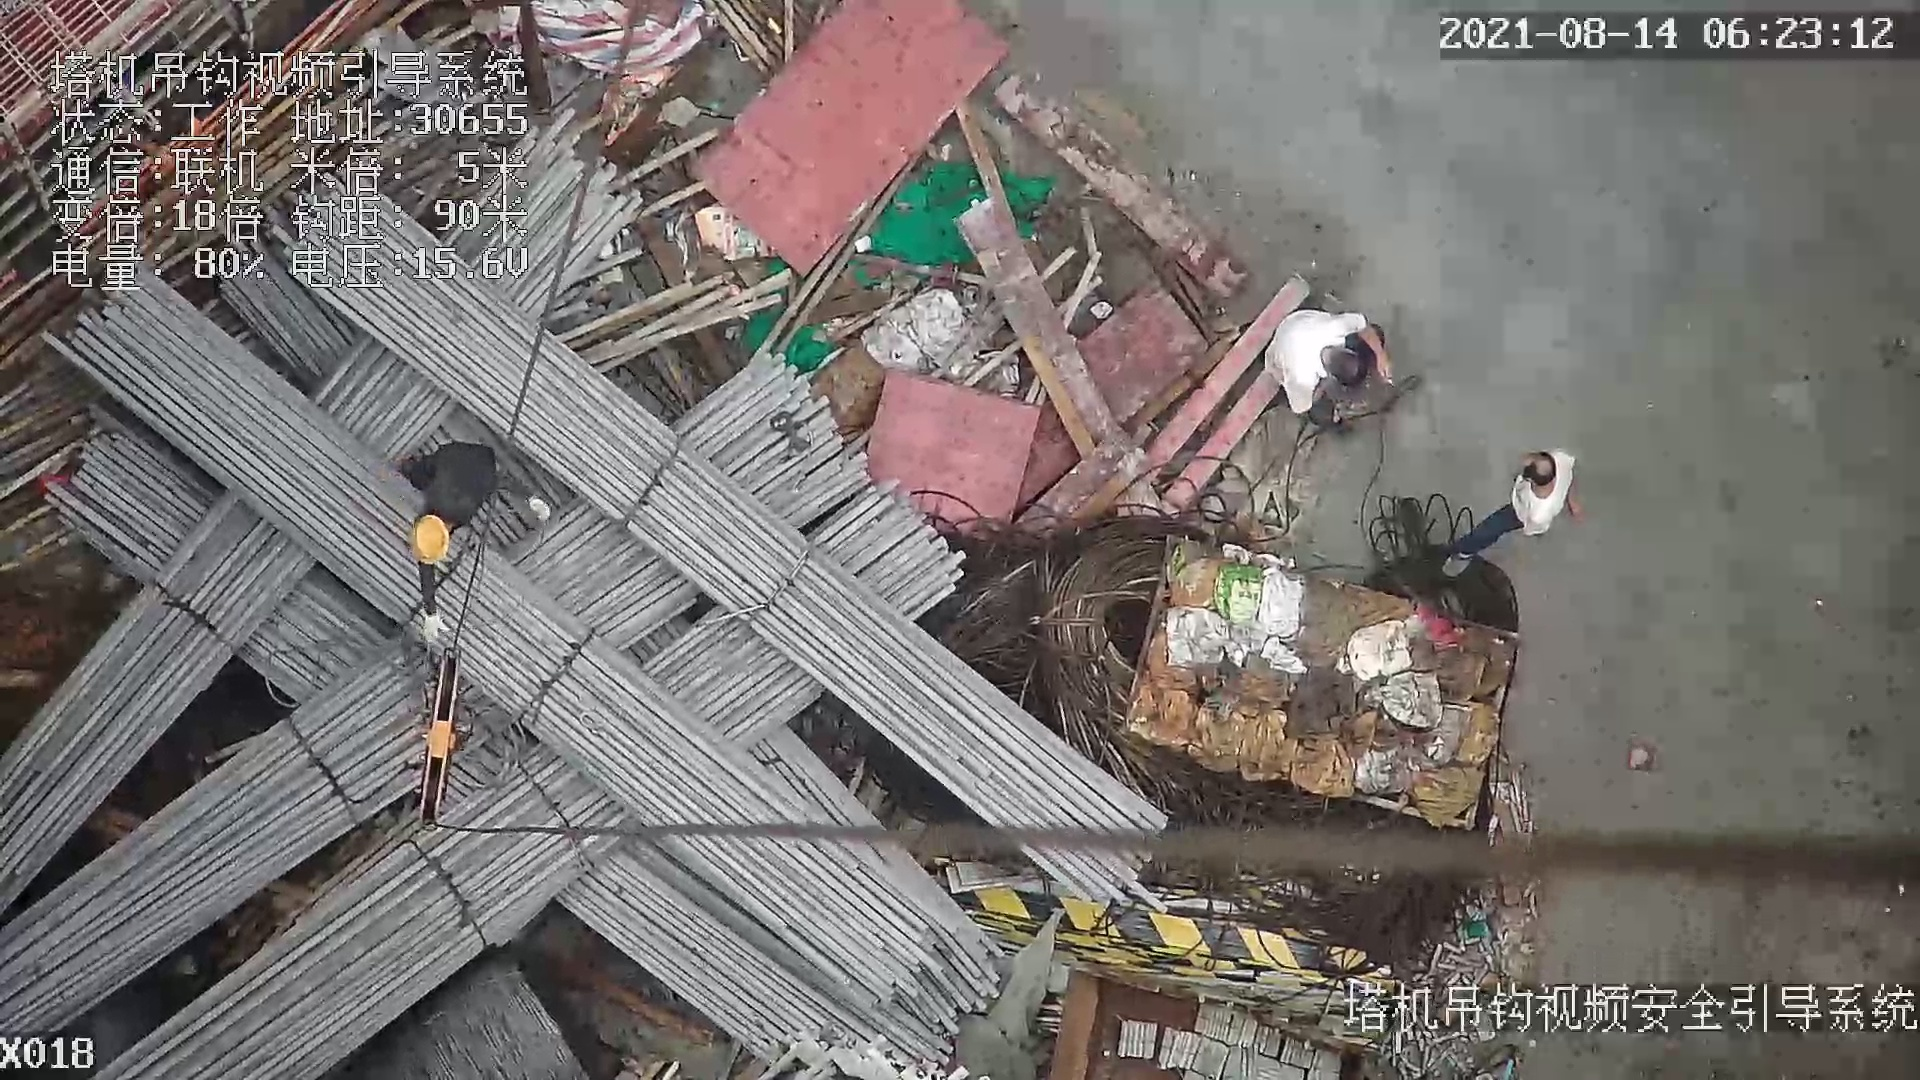board: (699, 4, 1032, 276)
helmet: (407, 515, 451, 572)
hook: (414, 642, 458, 839)
person: (390, 427, 555, 644), (1442, 424, 1597, 581), (1256, 305, 1403, 431)
